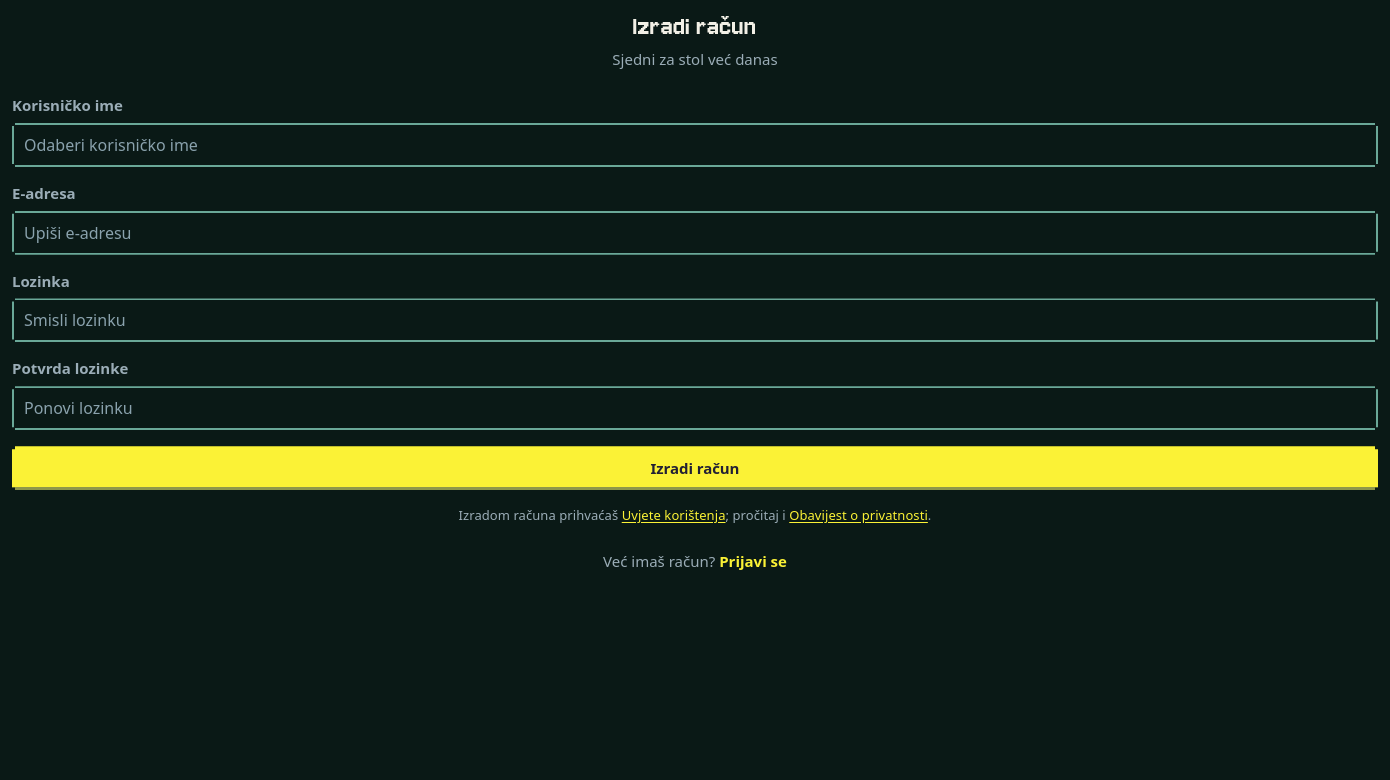
Scenario: SignupForm in Croatian (open beta §1.1) › after a sign-up in Croatian: check your inbox
Expected: the heading "Izradi račun" is shown, [633, 11, 757, 42]
Type "ana" into the field labelled "Korisničko ime" at [695, 145], box [12, 123, 1378, 167]
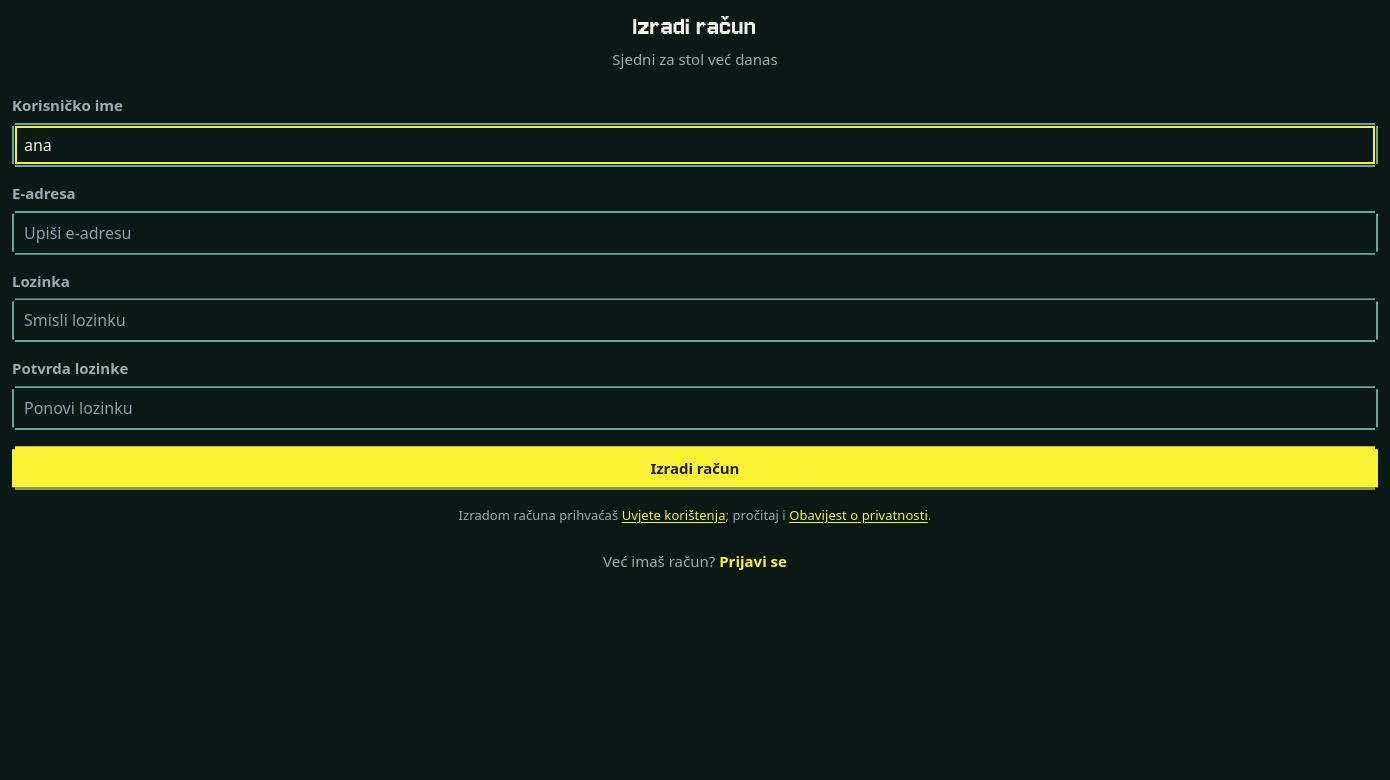
Type "ana@example.com" into the field labelled "E-adresa" at [695, 233], box [12, 211, 1378, 255]
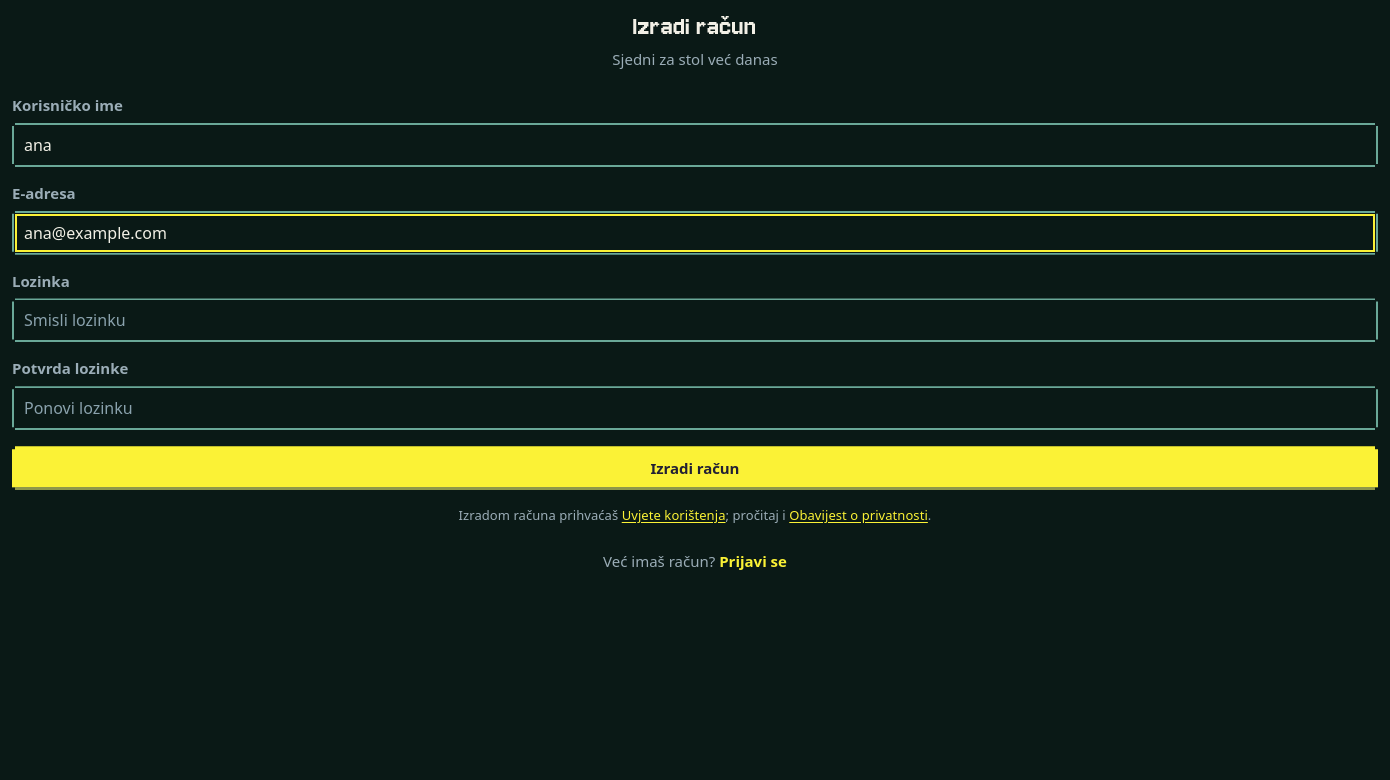
Type "long-enough-1" into the password field labelled "Lozinka" at [695, 320], box [12, 298, 1378, 342]
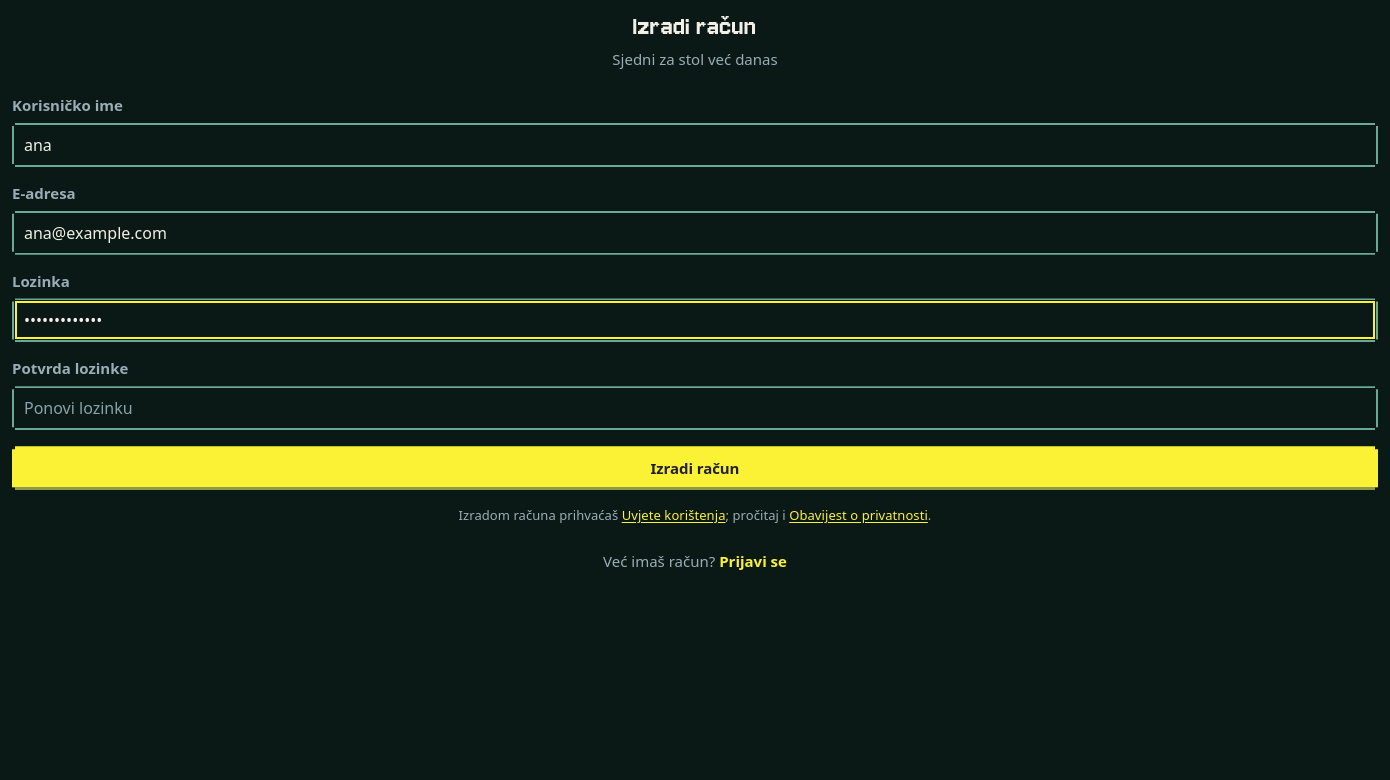
Type "long-enough-1" into the password field labelled "Potvrda lozinke" at [695, 408], box [12, 386, 1378, 430]
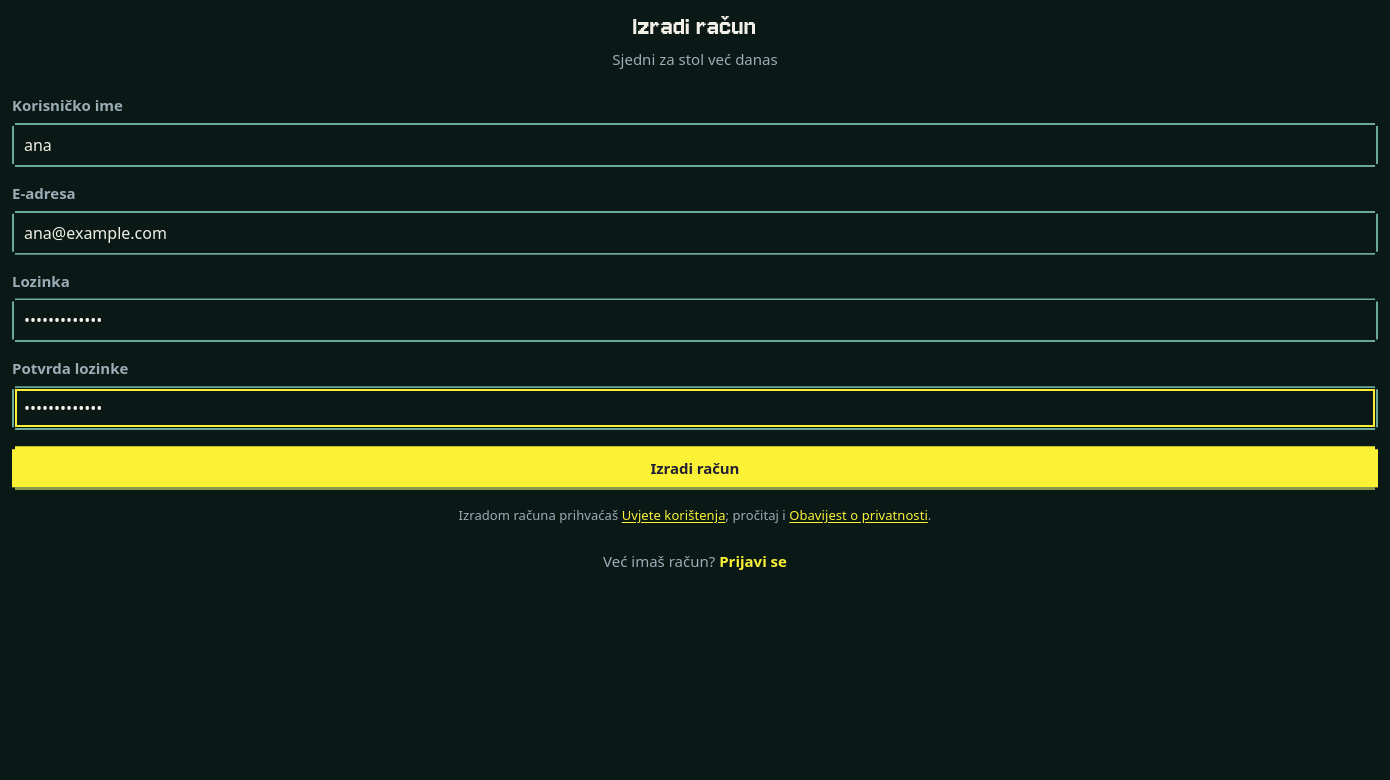
Click the button "Izradi račun" at [695, 468], box [12, 446, 1378, 490]
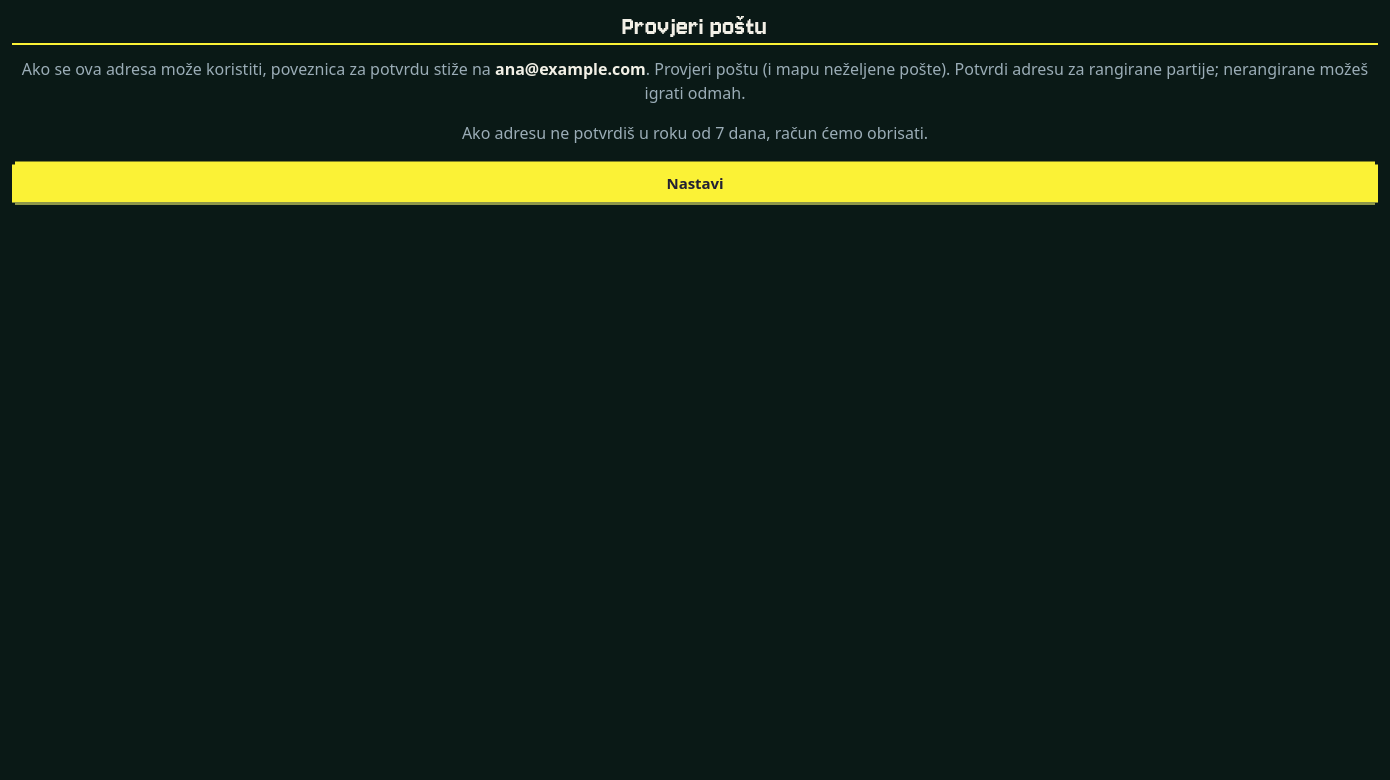
Expected: the heading "Provjeri poštu" is shown, [622, 11, 767, 42]
Expected: the text "poveznica za potvrdu stiže na" shows "Ako se ova adresa može koristiti, poveznica za potvrdu stiže na ana@example.com. Provjeri poštu (i mapu neželjene pošte). Potvrdi adresu za rangirane partije; n", [12, 57, 1378, 105]
Expected: the text "Ako adresu ne potvrdiš u roku od 7 dana, račun ćemo obrisati." is shown, [462, 122, 928, 144]
